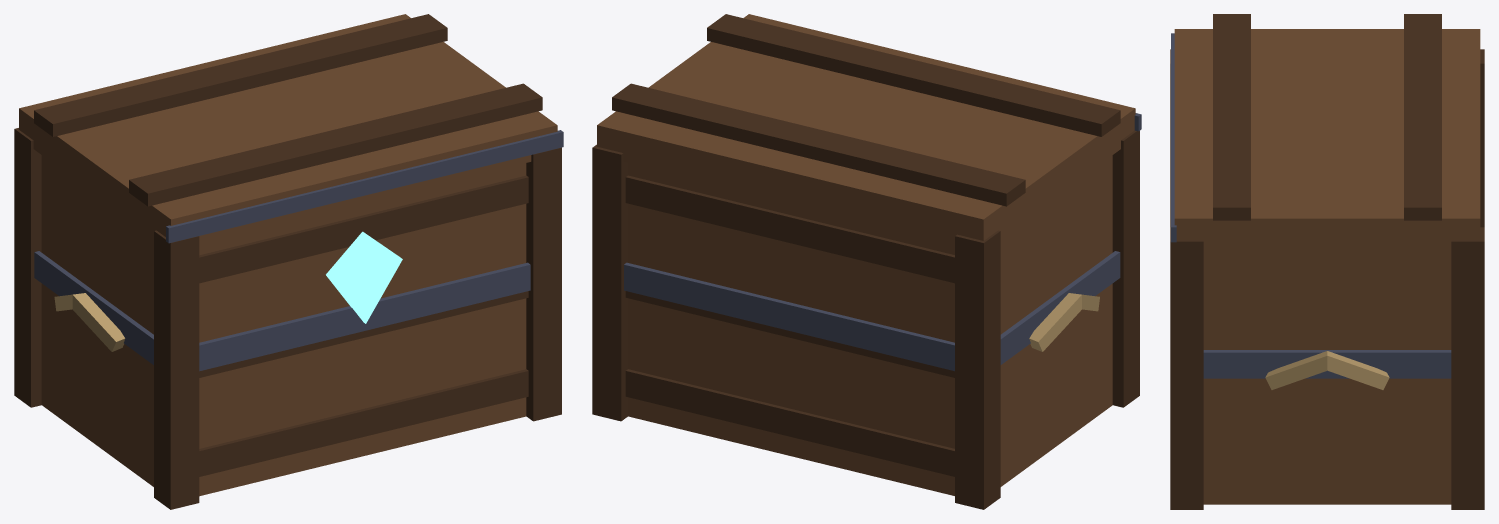
The model's file is Prop_LootCrate_Common.fbx.
3 renders of one model, left to right at view 1: azimuth 30°, elevation 25°; view 2: azimuth 150°, elevation 25°; view 3: azimuth 270°, elevation 25°, orthographic.
Visible parts, largest first — view 1: Prop_LootCrate_Common_Body, Prop_LootCrate_Common_Lid; view 2: Prop_LootCrate_Common_Body, Prop_LootCrate_Common_Lid; view 3: Prop_LootCrate_Common_Body, Prop_LootCrate_Common_Lid.
Boxes of the visible parts, <box> form: Prop_LootCrate_Common_Body: <box>14,128,561,509</box>; Prop_LootCrate_Common_Lid: <box>19,14,563,243</box>; Prop_LootCrate_Common_Body: <box>592,130,1139,509</box>; Prop_LootCrate_Common_Lid: <box>597,14,1141,242</box>; Prop_LootCrate_Common_Body: <box>1170,49,1484,509</box>; Prop_LootCrate_Common_Lid: <box>1171,14,1480,248</box>.
Size of the model in its own units: 1.05 by 0.7 by 0.658.
